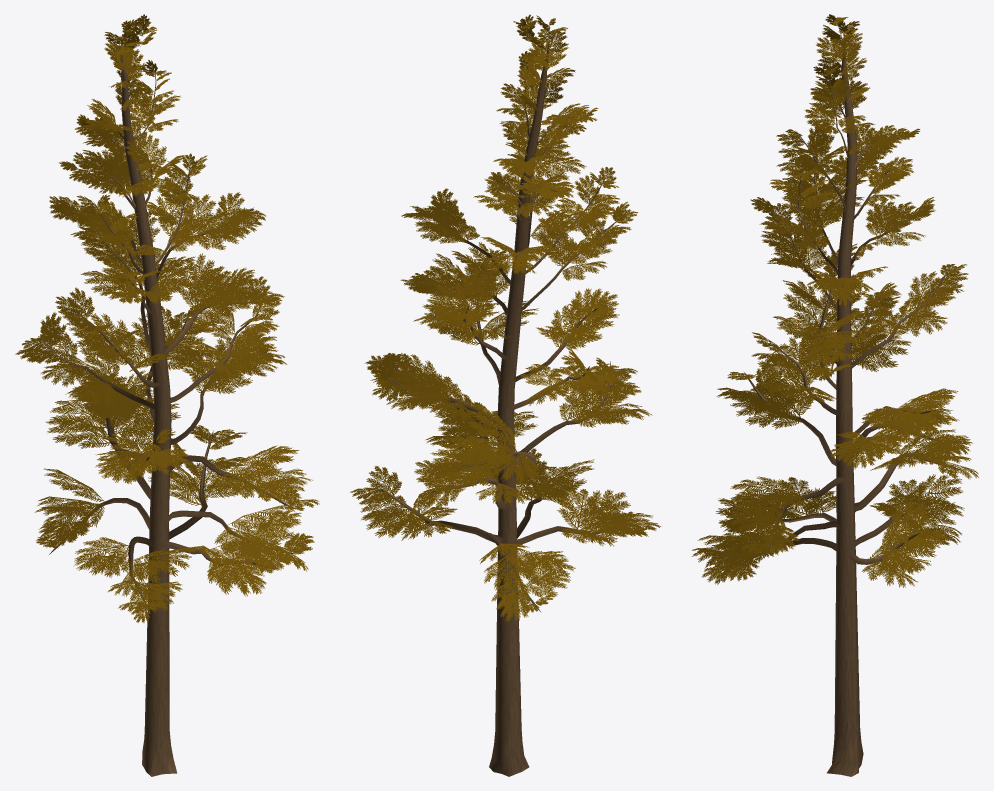
The model's file is SM_tree_01.glb.
3 views of the same model, side by side, from view 1: azimuth 30°, elevation 25°; view 2: azimuth 150°, elevation 25°; view 3: azimuth 270°, elevation 25° (orthographic). The views are drawn at different scales.
Parts seen in each view (by area): view 1: SM_tree_01; view 2: SM_tree_01; view 3: SM_tree_01.
Part boxes in pixels (<box>): SM_tree_01: <box>15,14,319,776</box>; SM_tree_01: <box>350,14,661,776</box>; SM_tree_01: <box>692,14,978,776</box>.
Bounding box in the file's own units: 4.45 × 12.78 × 4.53.
Materials: 2 (2 with a texture image).
